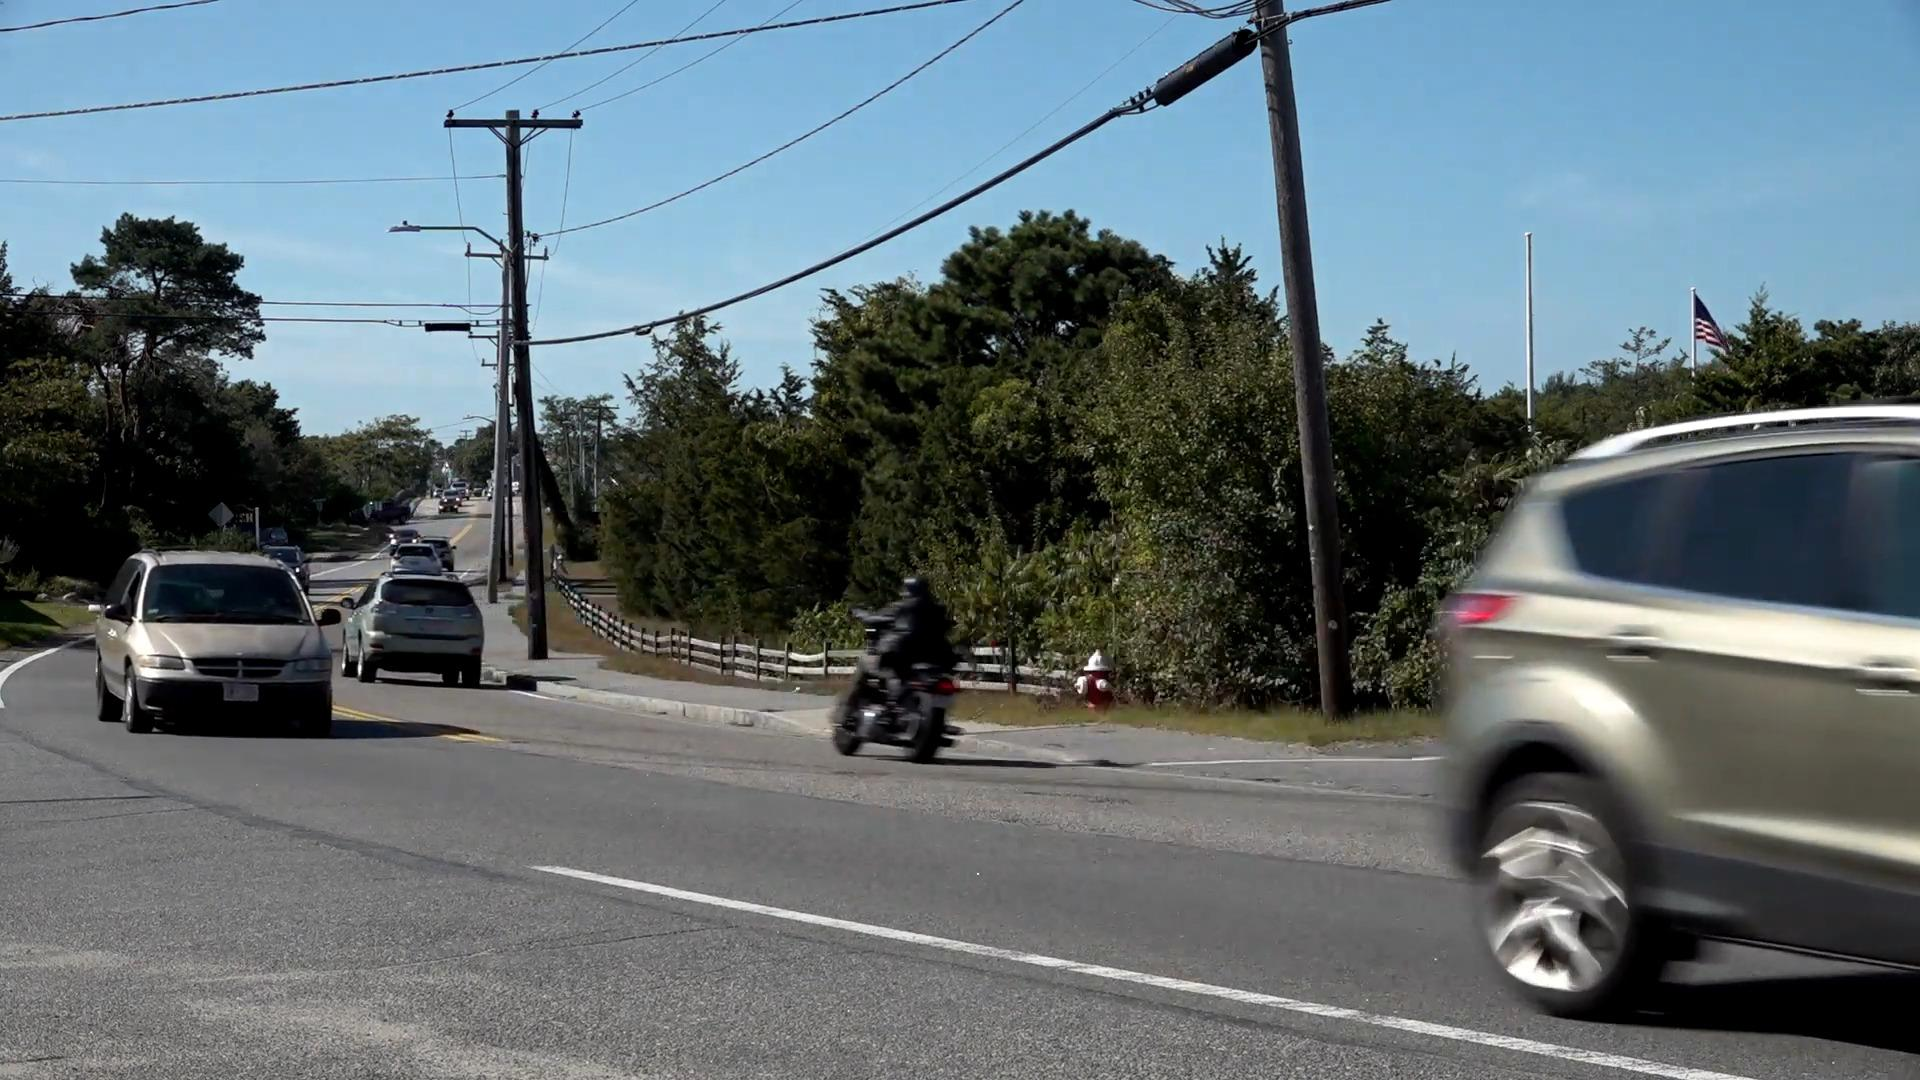minivan: (100, 553, 340, 737)
suv: (1428, 404, 1920, 1029), (353, 567, 492, 696)
